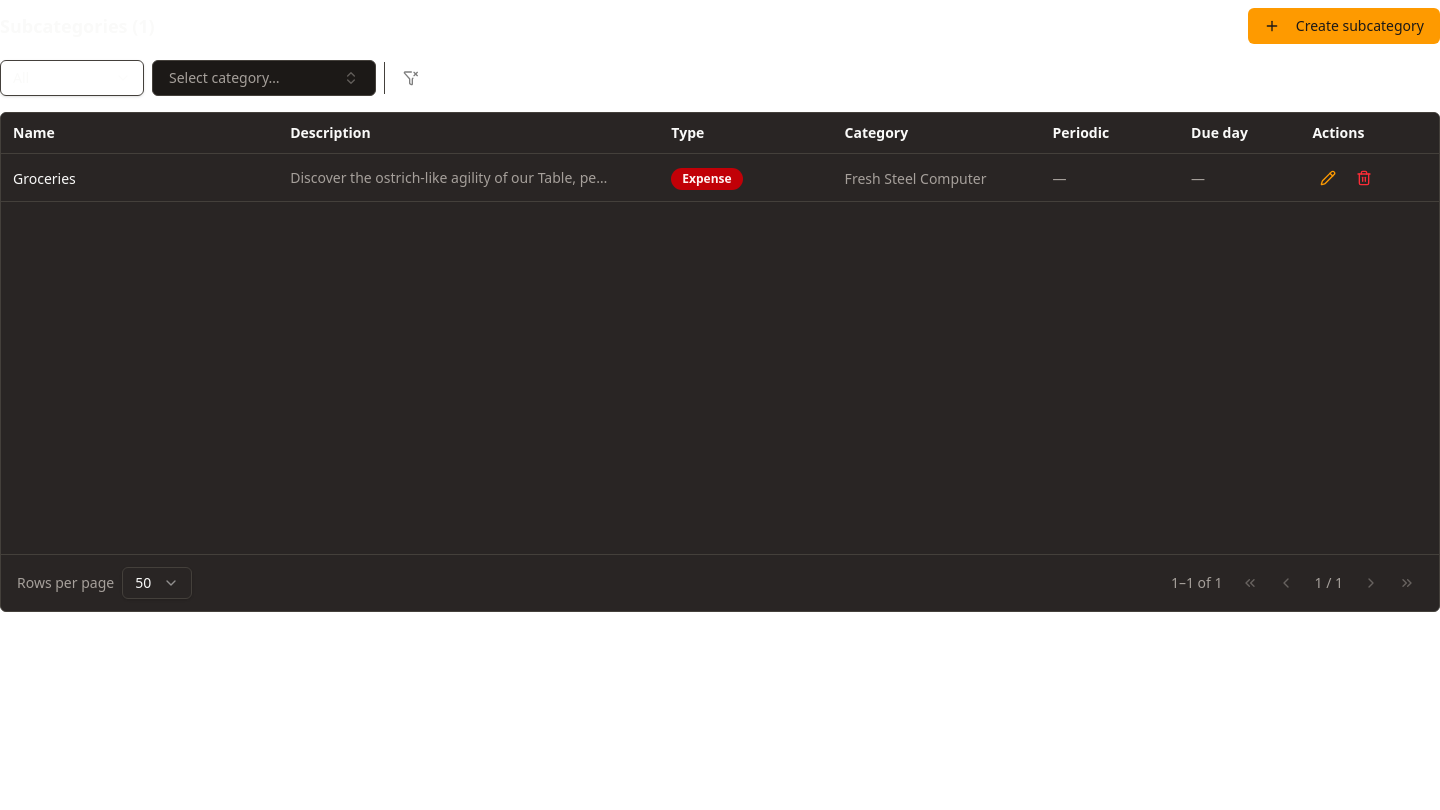
Test: Subcategories screen › edit flow: click Edit, change name, submit, list updated
The width and height of the screenshot is (1440, 810).
Expected: the text "Groceries" is shown, [13,168,76,188]
Click the button named "edit groceries" at [1328, 178], box [1312,162,1344,194]
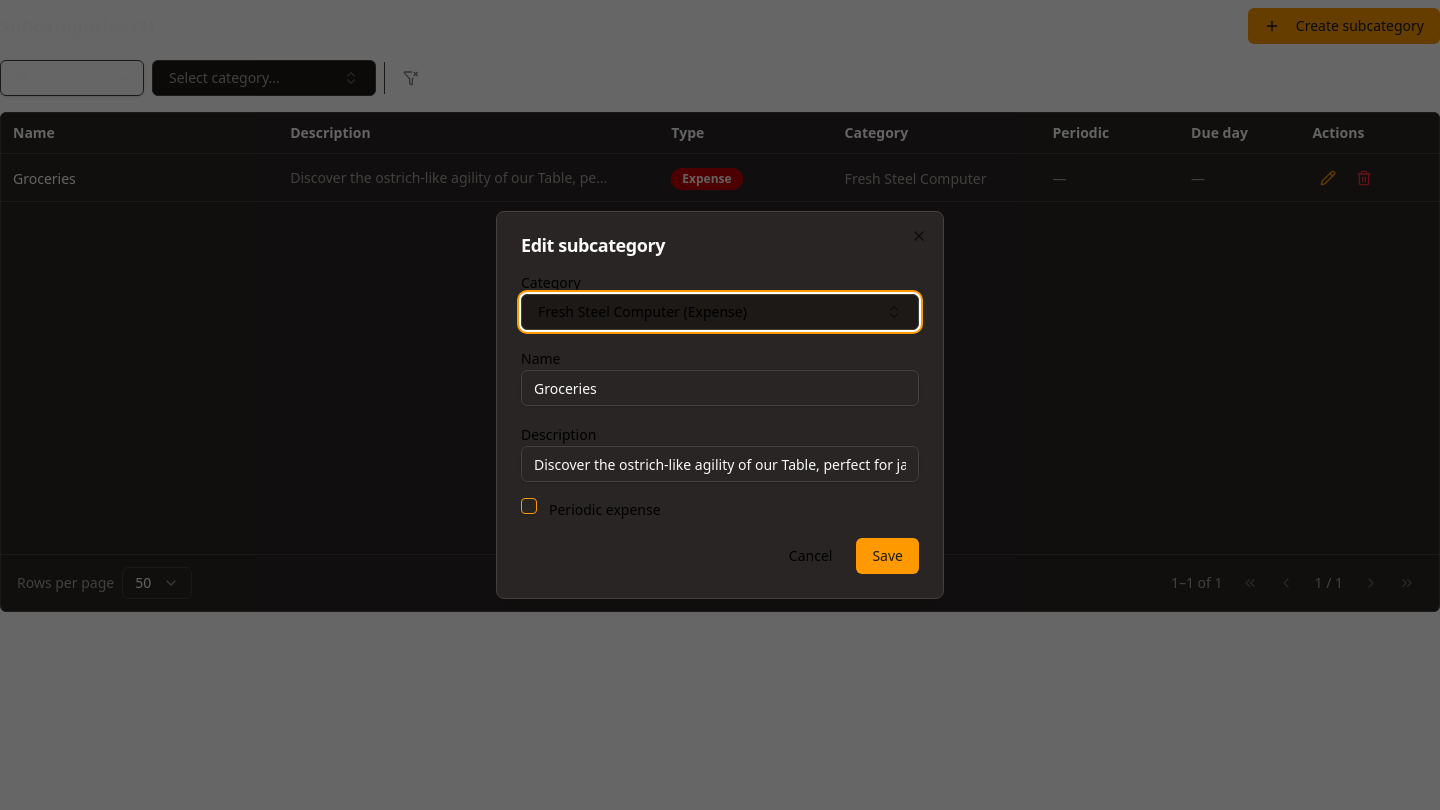
Now the dialog "Edit subcategory" is shown, box [496,211,944,599]
Replace the text in the field named "subcategory name" with "Groceries Updated" at [720, 388], box [521,370,919,406]
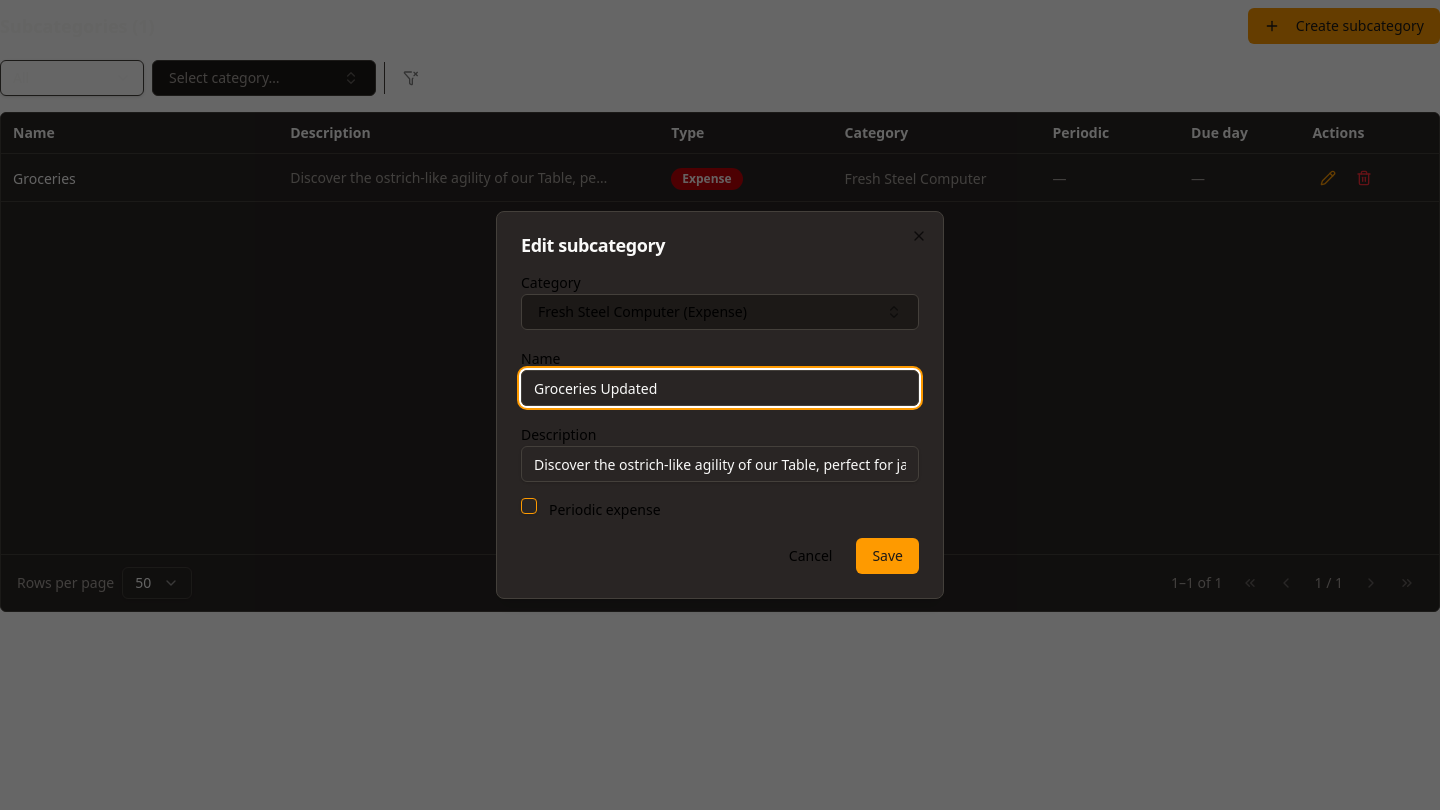
Click the button "Save" at [888, 556], box [856,538,919,574]
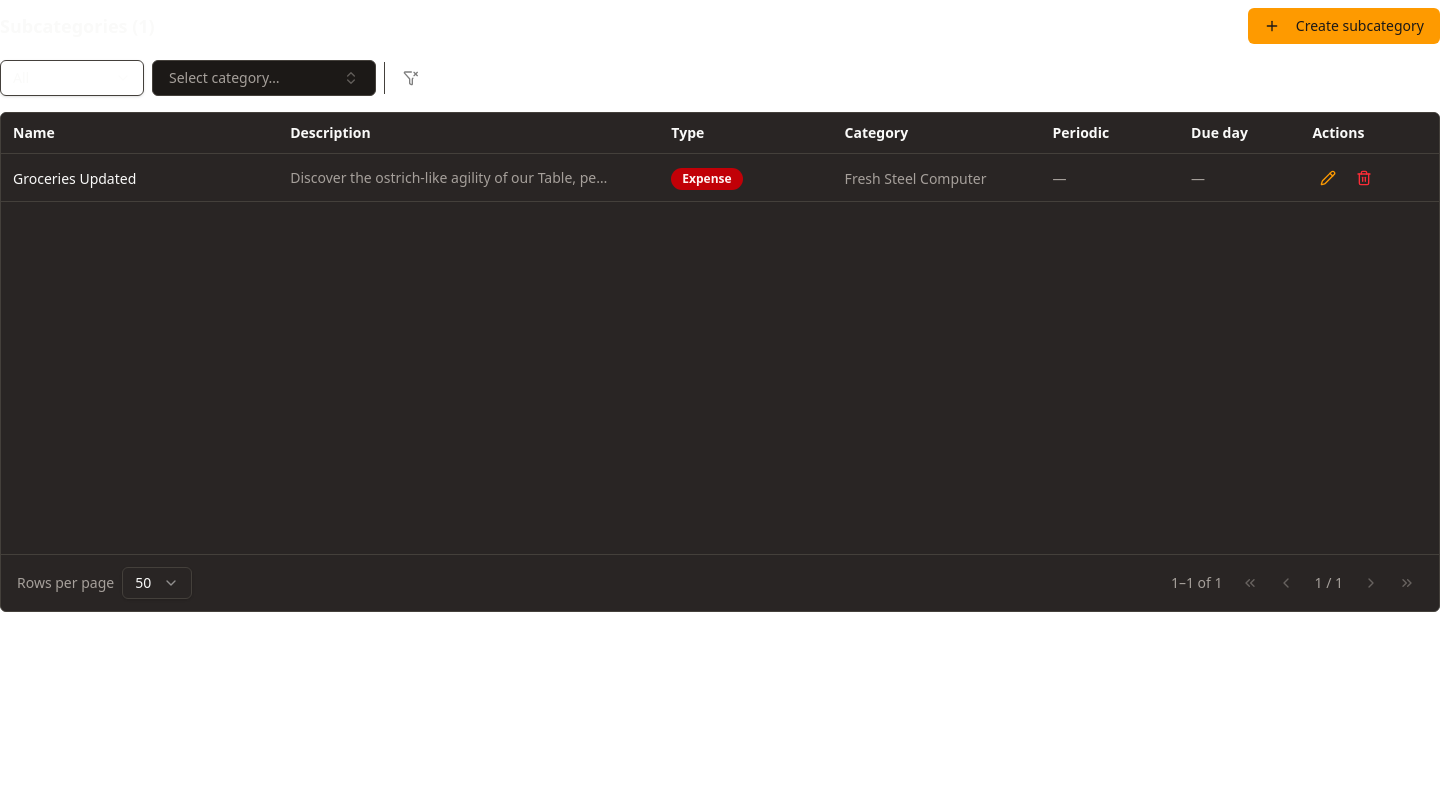
Now the text "Groceries Updated" is shown, box [13,168,136,188]
